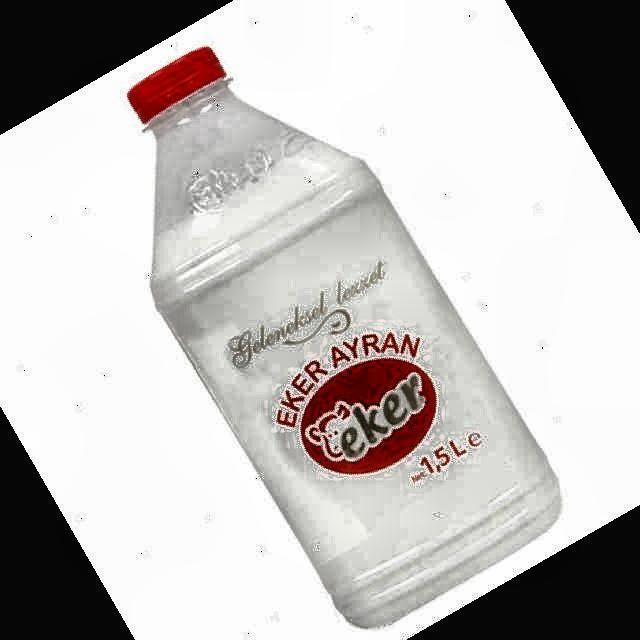plastic: (129, 48, 560, 627)
